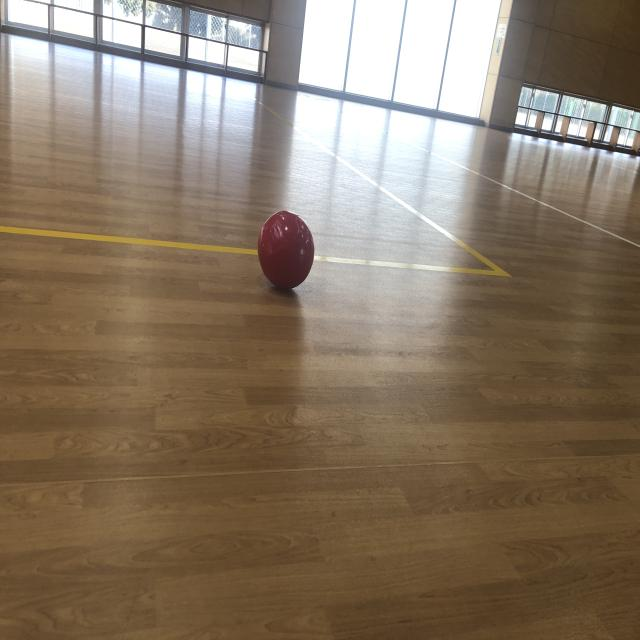red_ball: (258, 212, 315, 289)
